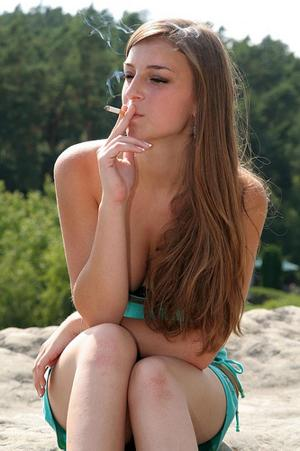person: (30, 15, 269, 451)
